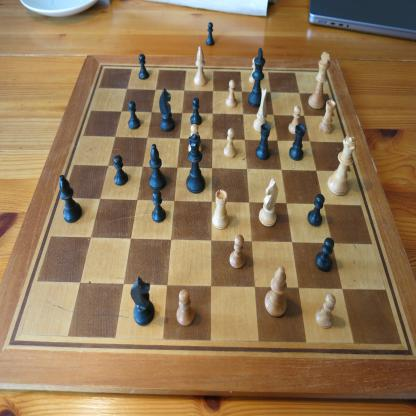black-bishop: (58, 174, 82, 224), (148, 144, 167, 192)
black-king: (247, 47, 266, 108)
black-knight: (130, 275, 155, 327), (156, 88, 174, 134)
black-pawn: (315, 236, 335, 272), (307, 193, 326, 228), (151, 189, 167, 224), (113, 154, 128, 188), (127, 101, 141, 131), (190, 97, 202, 126), (138, 54, 150, 80), (205, 22, 215, 47)
black-queen: (186, 133, 206, 194)
black-rook: (288, 123, 306, 161), (255, 123, 271, 161)
white-bishop: (264, 266, 288, 319), (193, 46, 208, 87)
white-king: (307, 52, 331, 112)
white-knight: (258, 178, 279, 229), (253, 88, 268, 134)
white-pawn: (314, 293, 336, 331), (176, 288, 196, 328), (228, 233, 246, 270), (223, 127, 237, 159), (288, 104, 302, 135), (188, 123, 202, 153), (225, 79, 238, 109), (248, 57, 260, 86)
white-queen: (326, 135, 358, 198)
white-rook: (211, 188, 230, 231), (318, 100, 336, 136)
